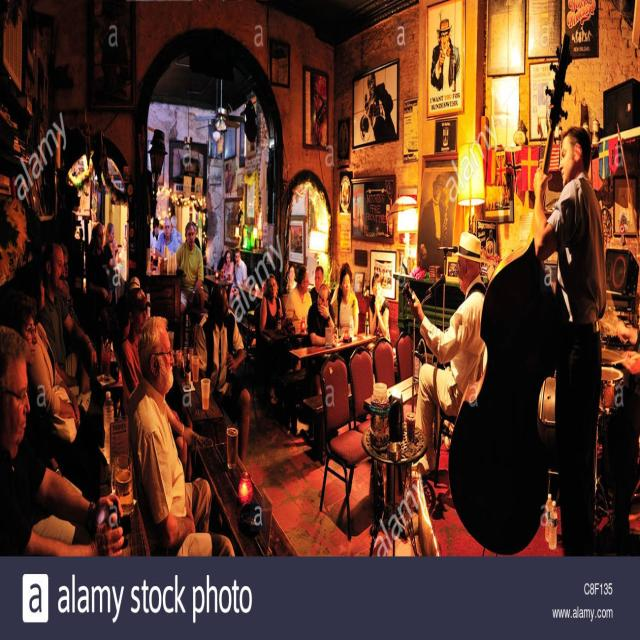body: (532, 125, 608, 558), (0, 322, 125, 558), (127, 314, 237, 557), (16, 259, 110, 506), (4, 290, 90, 549), (406, 230, 488, 482), (41, 240, 108, 431), (194, 284, 252, 466), (119, 286, 153, 399), (176, 220, 205, 351), (85, 219, 113, 345), (306, 282, 336, 398), (259, 272, 284, 408), (428, 10, 464, 100), (285, 267, 314, 373), (423, 175, 455, 268), (359, 71, 395, 146), (366, 272, 392, 360), (332, 266, 361, 344), (308, 74, 327, 150), (154, 216, 180, 261), (62, 243, 73, 320), (230, 247, 248, 292), (102, 220, 118, 270), (309, 266, 324, 304), (220, 247, 236, 282), (150, 216, 164, 254), (71, 218, 86, 242)
